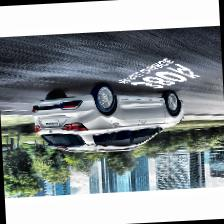EV: (32, 84, 187, 159)
